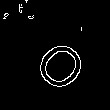O_NE: (25, 24, 92, 90)
